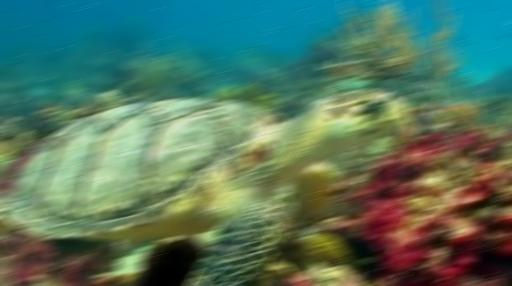Fish: (0, 89, 408, 285)
